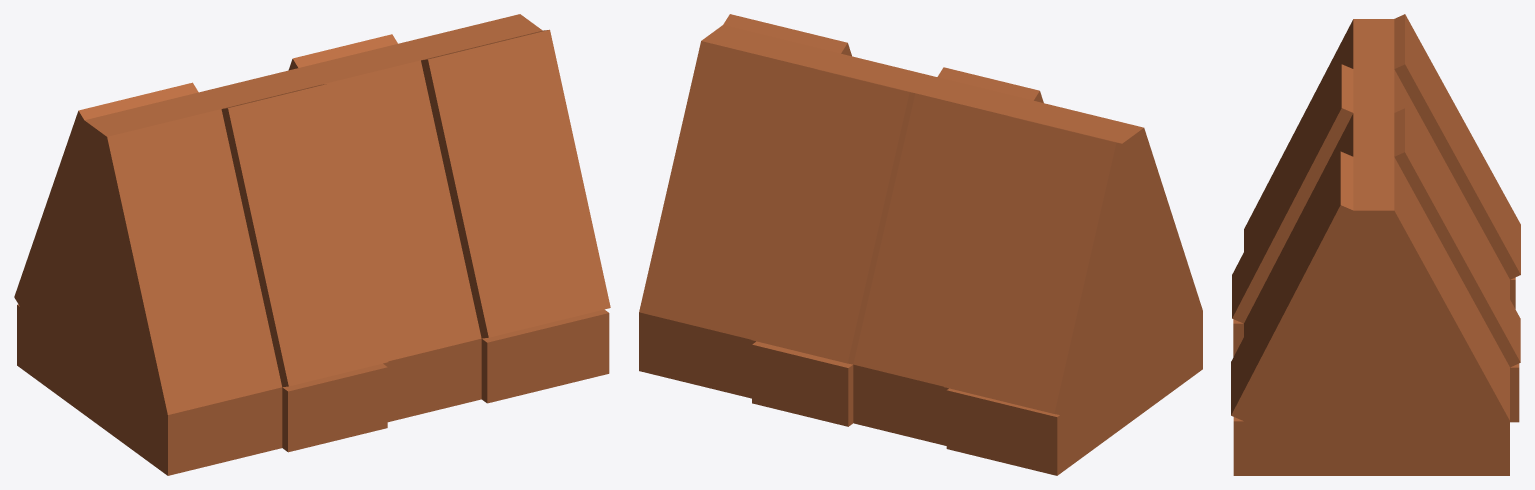
File: barricade2.fbx
3 renders of one model, left to right at view 1: azimuth 30°, elevation 25°; view 2: azimuth 150°, elevation 25°; view 3: azimuth 270°, elevation 25°, orthographic. The views are drawn at different scales.
Parts seen in each view (by area): view 1: Cube.001; view 2: Cube.001; view 3: Cube.001.
Boxes of the visible parts, <box> form: Cube.001: <box>14,14,610,475</box>; Cube.001: <box>639,14,1202,475</box>; Cube.001: <box>1231,14,1520,475</box>.
Bounding box in the file's own units: 124 × 82.06 × 79.58.
